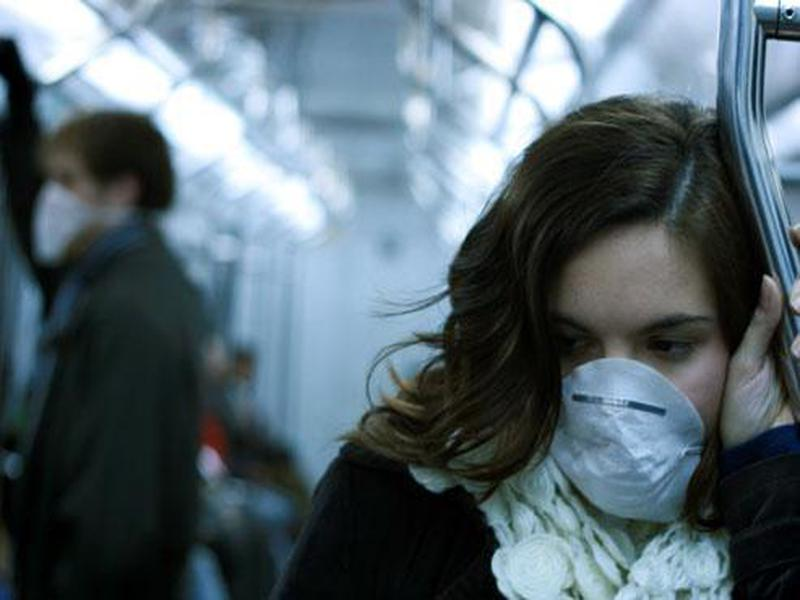with_mask: (556, 216, 726, 523), (31, 103, 183, 270)
